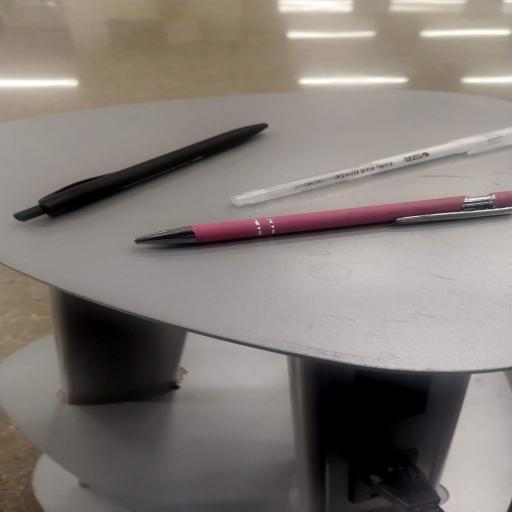pen: (14, 124, 267, 221), (232, 128, 511, 205), (135, 192, 511, 244)
